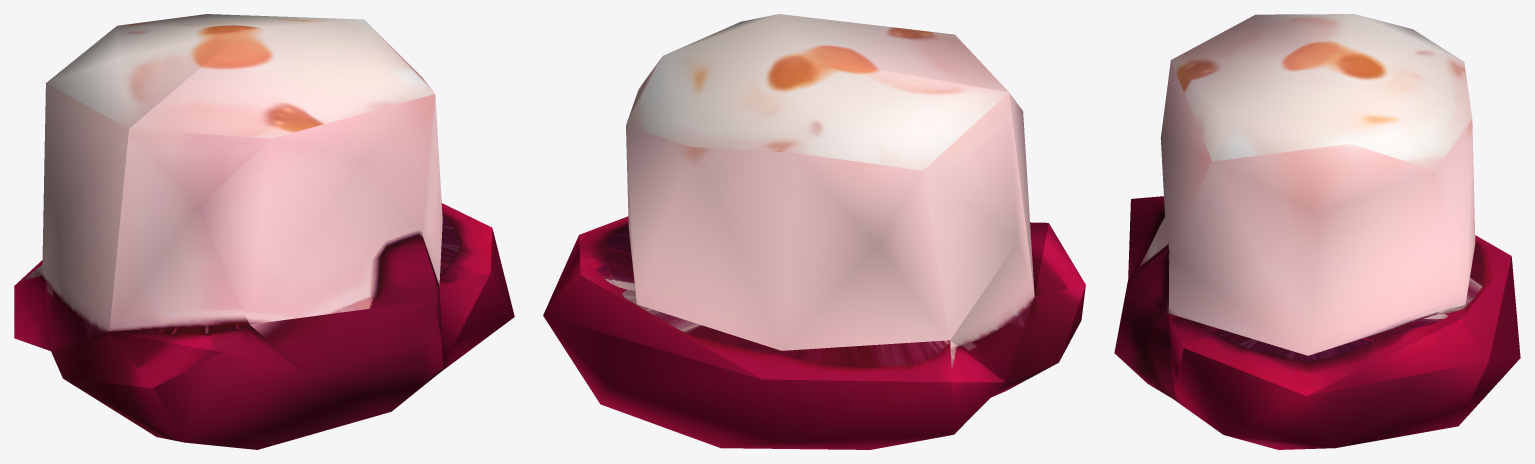
File: tooth2_0.1.fbx
3 renders of one model, left to right at view 1: azimuth 30°, elevation 25°; view 2: azimuth 150°, elevation 25°; view 3: azimuth 270°, elevation 25°, orthographic. The views are drawn at different scales.
Parts seen in each view (by area): view 1: temp; view 2: temp; view 3: temp.
Boxes of the visible parts, <box> form: temp: <box>14,14,514,449</box>; temp: <box>543,14,1085,449</box>; temp: <box>1114,14,1520,449</box>.
Size of the model in its own units: 1.94 by 1.37 by 1.62.
Materials: 1 (1 with a texture image).
